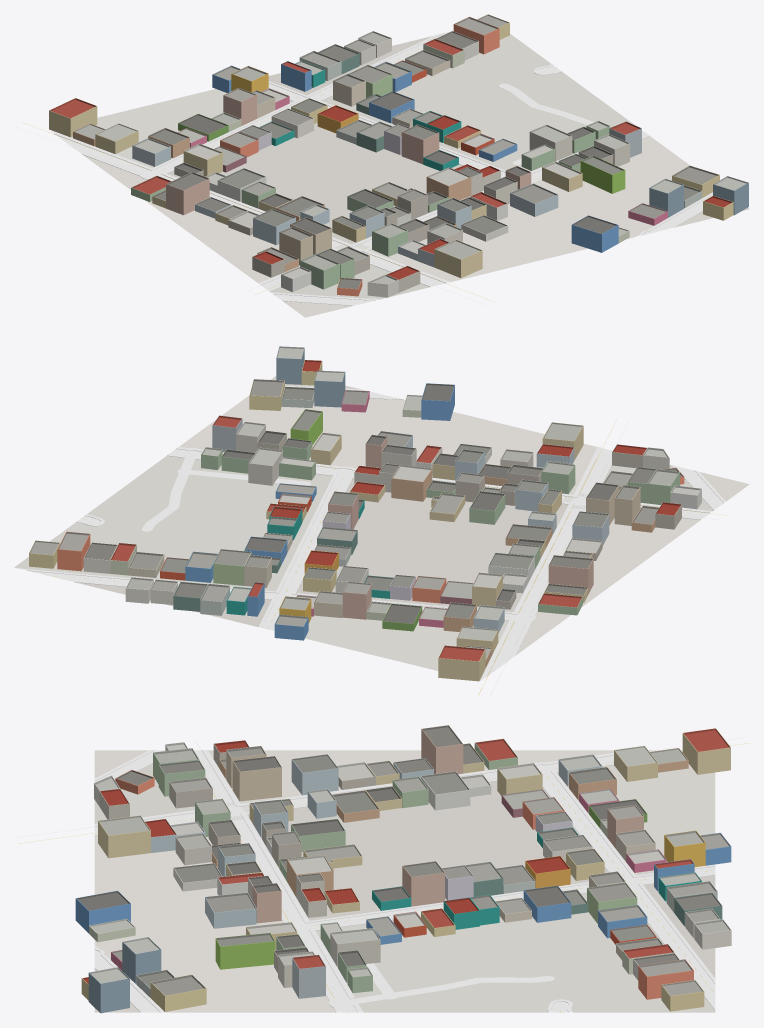
3 renders of one model, top to bottom at view 1: azimuth 30°, elevation 25°; view 2: azimuth 150°, elevation 25°; view 3: azimuth 270°, elevation 25°, orthographic. The views are drawn at different scales.
Parts seen in each view (by area): view 1: ground, walls, roofs, asphalt, sidewalk; view 2: ground, walls, roofs, asphalt, sidewalk; view 3: ground, walls, roofs, asphalt, sidewalk, markings.
Part boxes in pixels (x1,y1,x2,y2): ground: (71,34,749,317); walls: (49,23,748,297); roofs: (49,14,748,289); asphalt: (55,31,712,304); sidewalk: (48,32,712,305); ground: (14,376,749,681); walls: (29,349,701,681); roofs: (29,346,701,661); asphalt: (29,391,723,676); sidewalk: (19,386,725,680); ground: (94,750,715,1012); walls: (75,729,731,1013); roofs: (76,725,731,996); asphalt: (94,750,715,1012); sidewalk: (94,750,715,1012); markings: (16,737,749,1013).
Size of what is drawn, in the model's own units: 263 by 13.35 by 296.
